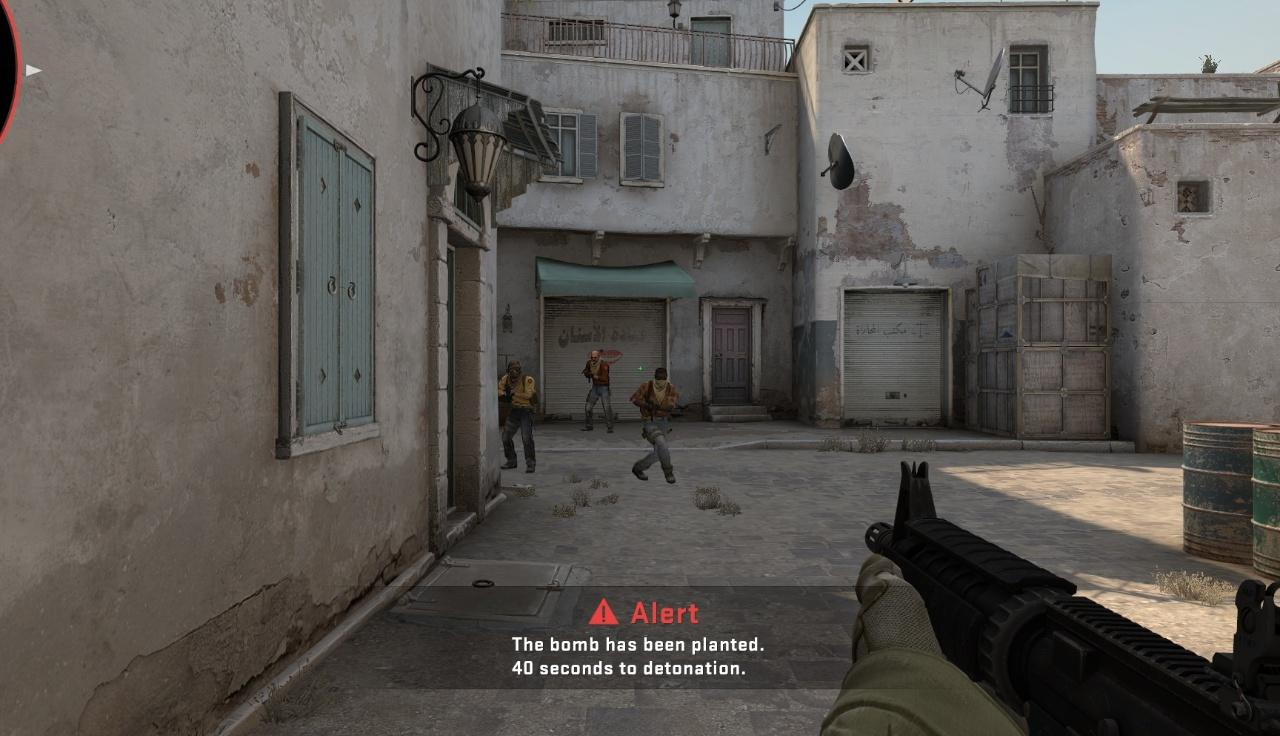rifle: (819, 460, 1280, 736)
tt: (634, 367, 680, 484), (497, 361, 536, 472), (583, 351, 614, 432)
tthead: (654, 367, 668, 388), (507, 360, 521, 379), (591, 352, 599, 363)
